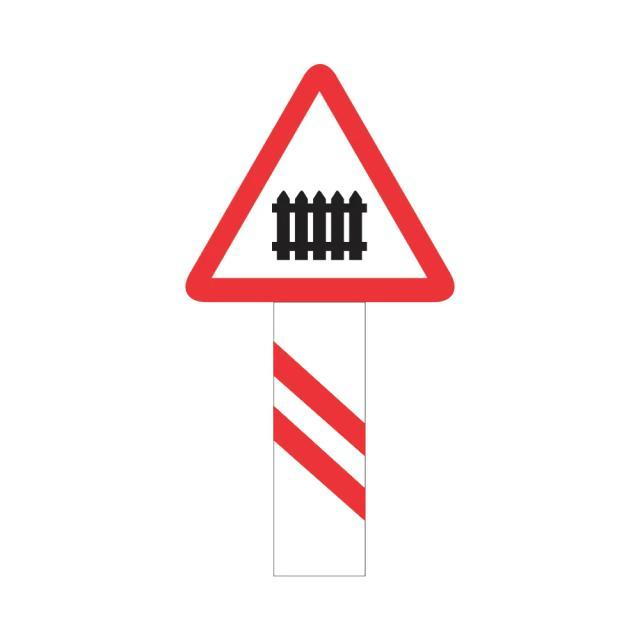guarded level crossing: (173, 59, 462, 313)
